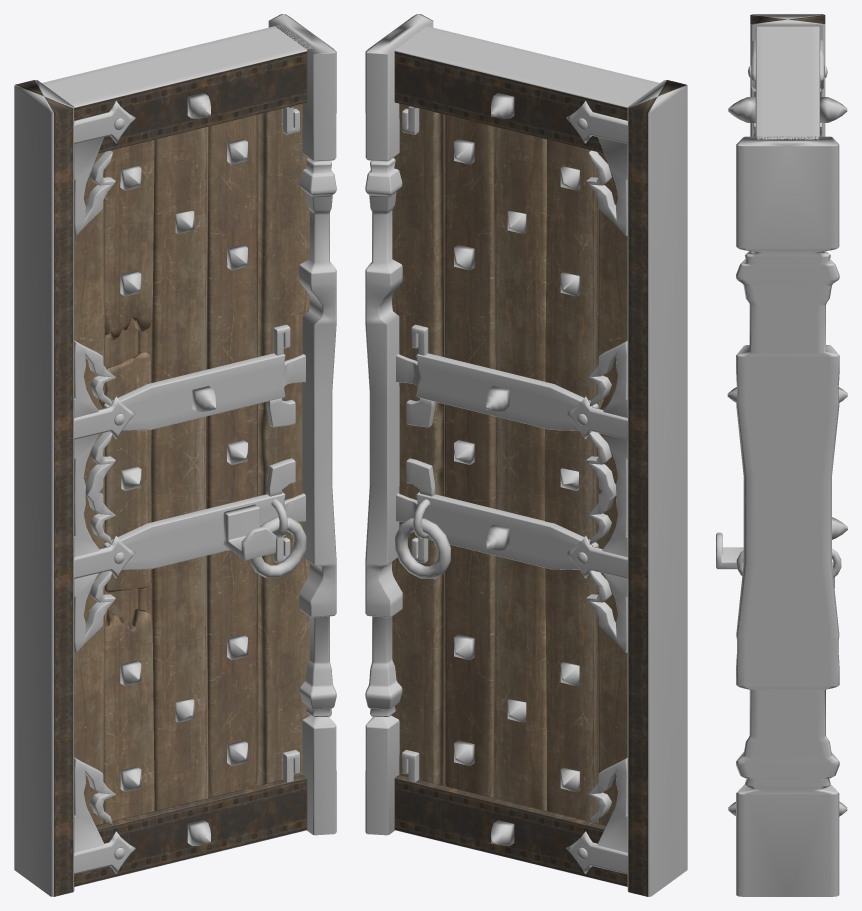
3 renders of one model, left to right at view 1: azimuth 30°, elevation 25°; view 2: azimuth 150°, elevation 25°; view 3: azimuth 270°, elevation 25°, orthographic. The views are drawn at different scales.
Parts seen in each view (by area): view 1: SM_DR_Door_R_01_LOD0; view 2: SM_DR_Door_R_01_LOD0; view 3: SM_DR_Door_R_01_LOD0.
Part boxes in pixels (x1,y1,x2,y2): SM_DR_Door_R_01_LOD0: (14,14,336,896); SM_DR_Door_R_01_LOD0: (365,14,687,896); SM_DR_Door_R_01_LOD0: (716,14,847,896).
Bounding box in the file's own units: 1.51 × 4.04 × 0.6407.
